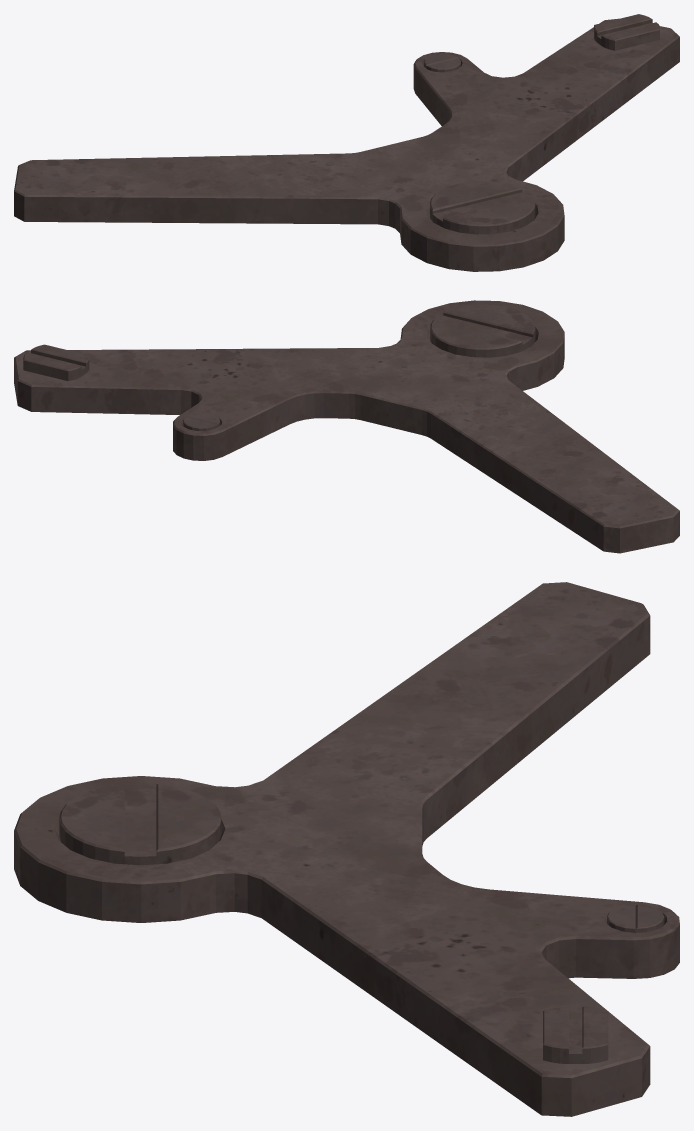
The model's file is MachinePart01.fbx.
The picture shows the model from 3 angles, top to bottom: view 1: azimuth 30°, elevation 25°; view 2: azimuth 150°, elevation 25°; view 3: azimuth 270°, elevation 25°; orthographic projection. The views are drawn at different scales.
Visible parts, largest first — view 1: SM_ENV_STRUCT_ScrapYard_MachinePart_01.mo; view 2: SM_ENV_STRUCT_ScrapYard_MachinePart_01.mo; view 3: SM_ENV_STRUCT_ScrapYard_MachinePart_01.mo.
Part boxes in pixels (x1,y1,x2,y2): SM_ENV_STRUCT_ScrapYard_MachinePart_01.mo: [14, 14, 679, 271]; SM_ENV_STRUCT_ScrapYard_MachinePart_01.mo: [14, 300, 679, 553]; SM_ENV_STRUCT_ScrapYard_MachinePart_01.mo: [14, 582, 679, 1116].
Size of the model in its own units: 5225 by 282 by 2970.
1 material, 1 textured.
